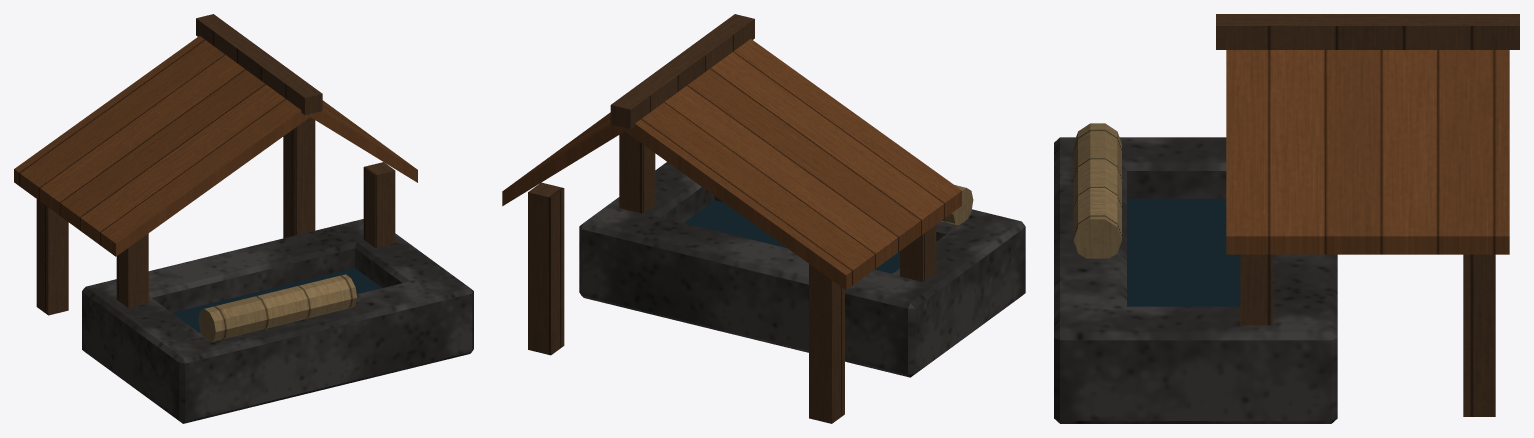
Rendered from CreWell01.glb.
3 renders of one model, left to right at view 1: azimuth 30°, elevation 25°; view 2: azimuth 150°, elevation 25°; view 3: azimuth 270°, elevation 25°, orthographic. The views are drawn at different scales.
Visible parts, largest first — view 1: basin; view 2: basin; view 3: basin.
Part boxes in pixels (x1,y1,x2,y2): basin: (14,14,473,423); basin: (502,14,1025,423); basin: (1054,14,1519,423).
Bounding box in the file's own units: 2.4 × 1.83 × 2.3.
3 materials, 2 textured.
